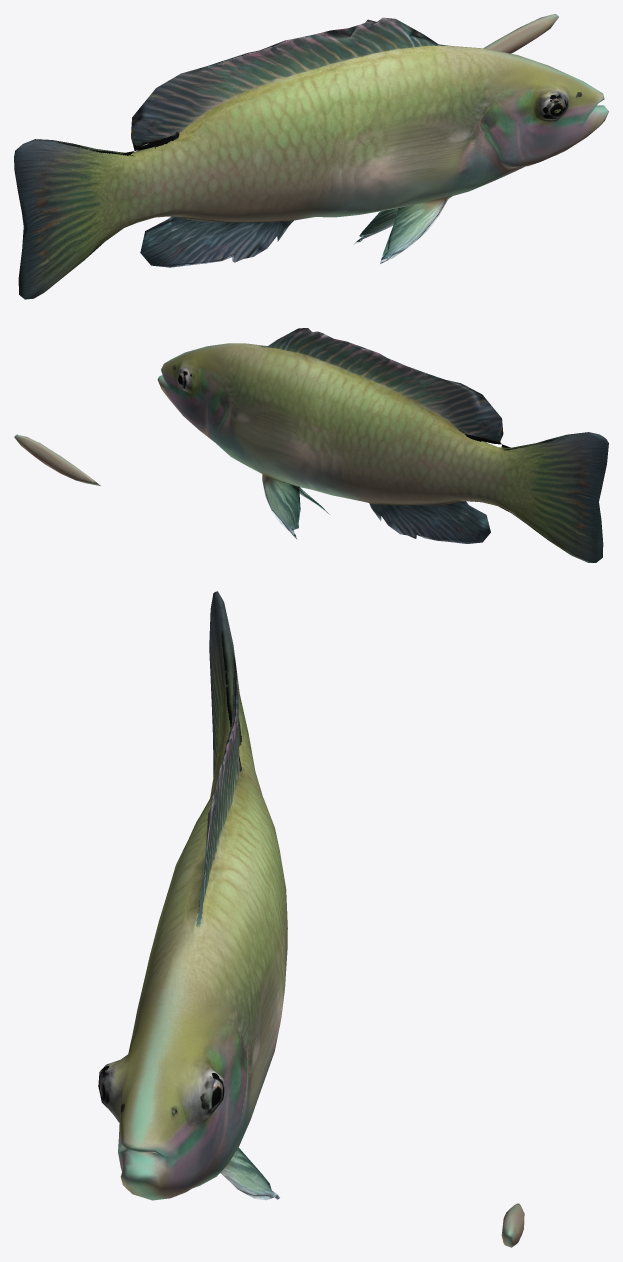
The model's file is tropicalfish_a5_single_1500.glb.
3 renders of one model, top to bottom at view 1: azimuth 30°, elevation 25°; view 2: azimuth 150°, elevation 25°; view 3: azimuth 270°, elevation 25°, orthographic. The views are drawn at different scales.
Bounding box in the file's own units: 0.9206 × 0.3334 × 0.3262.
1 material, 1 textured.
